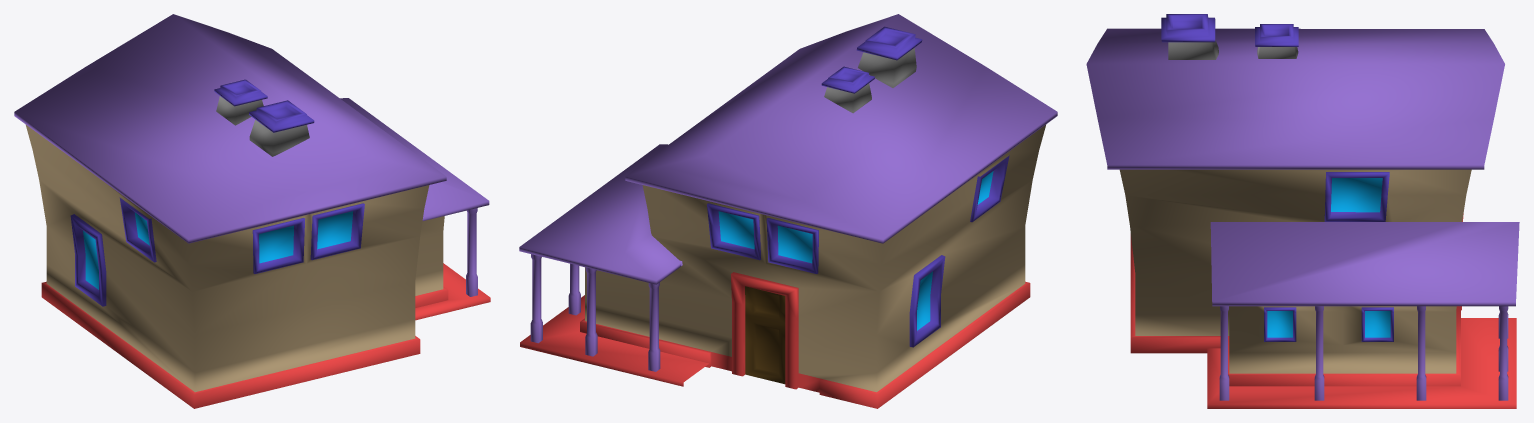
Rendered from Farm_House.fbx.
3 renders of one model, left to right at view 1: azimuth 30°, elevation 25°; view 2: azimuth 150°, elevation 25°; view 3: azimuth 270°, elevation 25°, orthographic. The views are drawn at different scales.
Parts seen in each view (by area): view 1: Farm_House; view 2: Farm_House; view 3: Farm_House.
Boxes of the visible parts, x1,y1,x2,y2 form: Farm_House: (14,14,490,408); Farm_House: (519,14,1057,408); Farm_House: (1086,14,1519,408).
Bounding box in the file's own units: 15.92 × 10.94 × 15.82.
